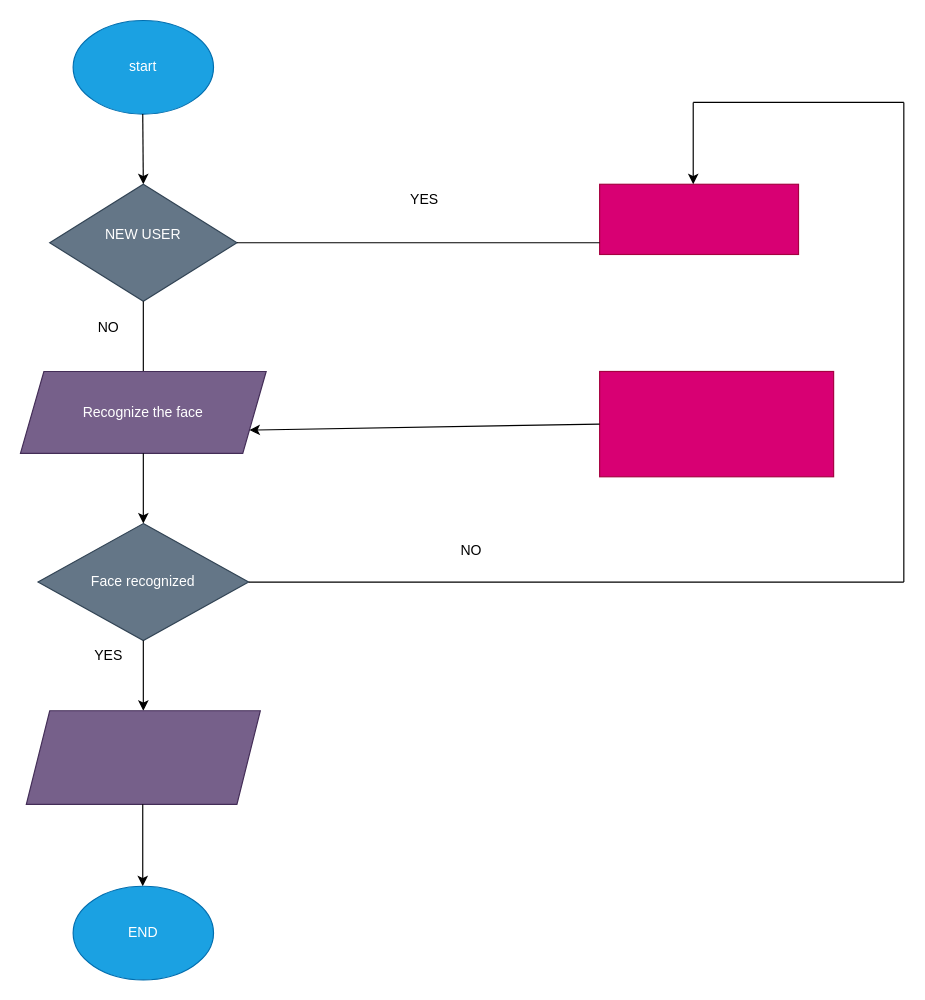
The diagram is 925 pixels wide and 1000 high, and some of its shapes have lost their labels. The centre of each missing label's shape, as x and y in pixels:
"Give your photograph" goes at [698,218].
"Store the face data in folder on your name" goes at [716,423].
"Stored with CSV File with Registration Number & Data Time and Entry" goes at [142,757].
